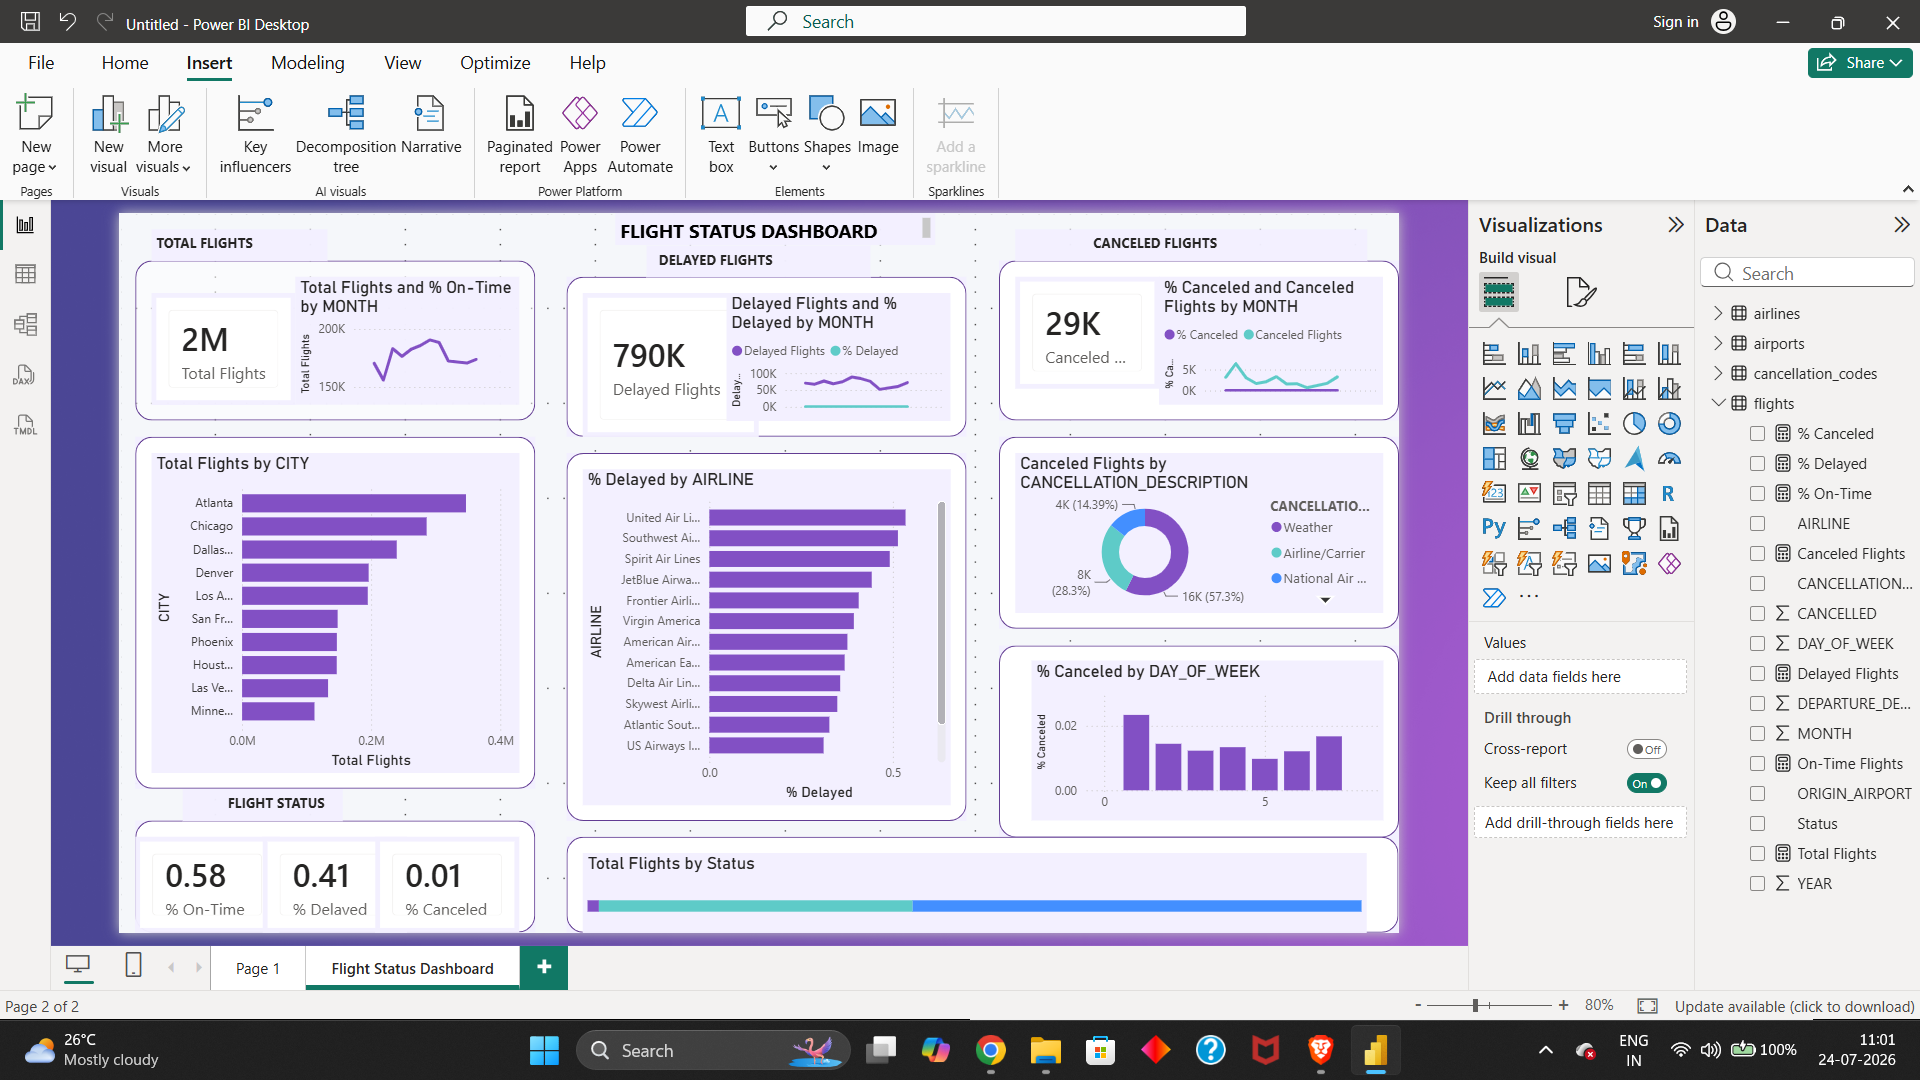

This screenshot's page, from the dashboard's own definition file:
{"tool":"powerbi","page":{"name":"Flight Status Dashboard ","canvas":[1280,720],"ordinal":1},"visuals":[{"type":"shape","box":[16,48,400,160],"z":0},{"type":"shape","box":[448,64,400,160],"z":1000},{"type":"shape","box":[880,48,400,160],"z":2000},{"type":"shape","box":[448,240,400,368],"z":3000},{"type":"shape","box":[16,224,400,352],"z":4000},{"type":"shape","box":[880,224,400,192],"z":5000},{"type":"shape","box":[880,432,400,192],"z":6000},{"type":"shape","box":[16,608,400,112],"z":7000},{"type":"shape","box":[448,624,832,96],"z":8000},{"type":"textbox","box":[32,16,176,32],"z":9000},{"type":"textbox","box":[896,16,352,32],"z":10000},{"type":"textbox","box":[528,32,224,32],"z":11000},{"type":"textbox","box":[64,576,160,32],"z":12000},{"type":"cardVisual","fields":{"Data":["flights.Total Flights"]},"box":[32,80,144,112],"z":13000},{"type":"lineChart","fields":{"Y":["flights.Total Flights"],"Category":["flights.MONTH"]},"box":[176,64,224,128],"z":14000},{"type":"cardVisual","fields":{"Data":["flights.Canceled Flights"]},"box":[896,64,144,112],"z":15000},{"type":"cardVisual","fields":{"Data":["flights.Delayed Flights"]},"box":[464,80,176,144],"z":16000},{"type":"lineChart","fields":{"Y":["flights.Delayed Flights","flights.% Delayed"],"Category":["flights.MONTH"]},"box":[608,80,224,128],"z":17000},{"type":"lineChart","fields":{"Y":["flights.% Canceled","flights.Canceled Flights"],"Category":["flights.MONTH"]},"box":[1040,64,224,128],"z":18000},{"type":"cardVisual","fields":{"Data":["flights.% On-Time"]},"box":[16,624,144,96],"z":19000},{"type":"cardVisual","fields":{"Data":["flights.% Delayed"]},"box":[144,624,144,96],"z":20000},{"type":"cardVisual","fields":{"Data":["flights.% Canceled"]},"box":[256,624,144,96],"z":21000},{"type":"clusteredBarChart","fields":{"Category":["airports.CITY"],"Y":["flights.Total Flights"]},"box":[32,240,368,320],"z":22000},{"type":"clusteredBarChart","fields":{"Category":["airlines.AIRLINE"],"Y":["flights.% Delayed"]},"box":[464,256,368,336],"z":23000},{"type":"donutChart","fields":{"Category":["cancellation_codes.CANCELLATION_DESCRIPTION"],"Y":["flights.Canceled Flights"]},"box":[896,240,368,160],"z":24000},{"type":"columnChart","fields":{"Y":["flights.% Canceled"],"Category":["flights.DAY_OF_WEEK"]},"box":[912,448,352,160],"z":25000},{"type":"hundredPercentStackedBarChart","fields":{"Y":["flights.Total Flights"],"Series":["flights.Status"]},"box":[464,640,784,80],"z":26000},{"type":"textbox","box":[448,0,336,32],"z":27000}]}

Visuals, with their boxes on the page's 1280x720 design canvas (x1, y1, x2, y2). These are canvas units, not pixel positions in the 1920x1080 screenshot, which may show the page scaled, cropped or inside an application window:
shape: (16,48,416,208)
shape: (448,64,848,224)
shape: (880,48,1280,208)
shape: (448,240,848,608)
shape: (16,224,416,576)
shape: (880,224,1280,416)
shape: (880,432,1280,624)
shape: (16,608,416,720)
shape: (448,624,1280,720)
textbox: (32,16,208,48)
textbox: (896,16,1248,48)
textbox: (528,32,752,64)
textbox: (64,576,224,608)
cardVisual - flights.Total Flights: (32,80,176,192)
lineChart - flights.Total Flights x flights.MONTH: (176,64,400,192)
cardVisual - flights.Canceled Flights: (896,64,1040,176)
cardVisual - flights.Delayed Flights: (464,80,640,224)
lineChart - flights.Delayed Flights x flights.% Delayed: (608,80,832,208)
lineChart - flights.% Canceled x flights.Canceled Flights: (1040,64,1264,192)
cardVisual - flights.% On-Time: (16,624,160,720)
cardVisual - flights.% Delayed: (144,624,288,720)
cardVisual - flights.% Canceled: (256,624,400,720)
clusteredBarChart - airports.CITY x flights.Total Flights: (32,240,400,560)
clusteredBarChart - airlines.AIRLINE x flights.% Delayed: (464,256,832,592)
donutChart - cancellation_codes.CANCELLATION_DESCRIPTION x flights.Canceled Flights: (896,240,1264,400)
columnChart - flights.% Canceled x flights.DAY_OF_WEEK: (912,448,1264,608)
hundredPercentStackedBarChart - flights.Total Flights x flights.Status: (464,640,1248,720)
textbox: (448,0,784,32)
